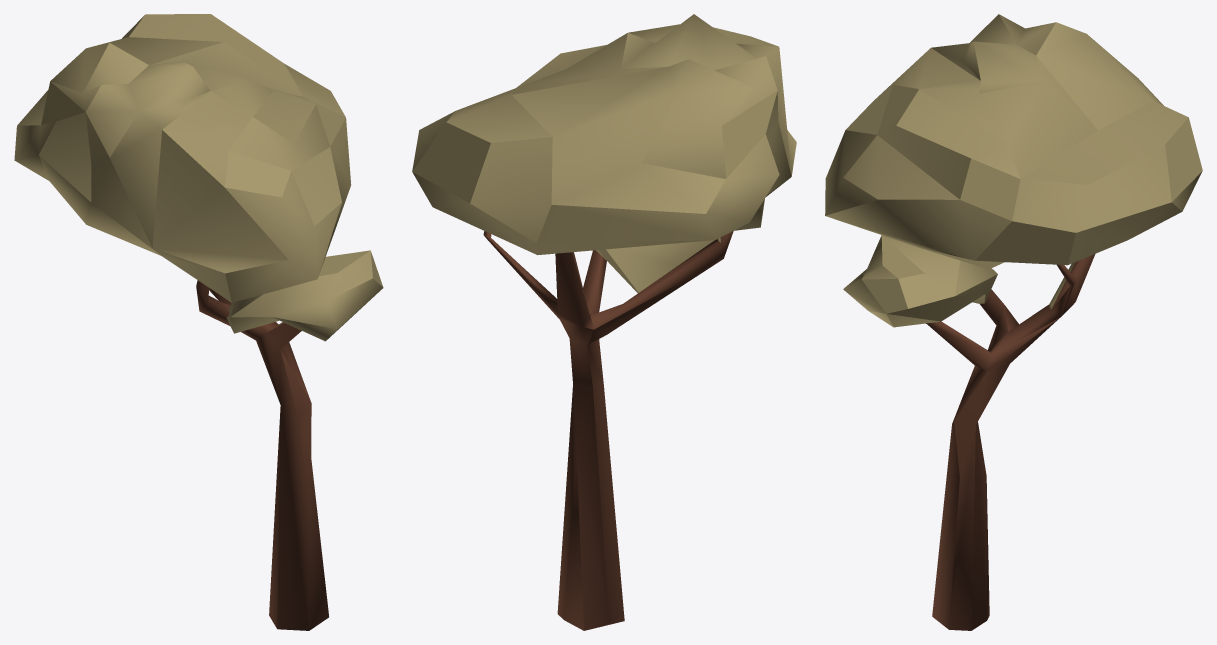
Rendered from BIRCH_TREE_GREEN_v2.fbx.
The picture shows the model from 3 angles, left to right: view 1: azimuth 30°, elevation 25°; view 2: azimuth 150°, elevation 25°; view 3: azimuth 270°, elevation 25°; orthographic projection. The views are drawn at different scales.
Visible parts, largest first — view 1: CommonTree_Autumn_4_Cube.098; view 2: CommonTree_Autumn_4_Cube.098; view 3: CommonTree_Autumn_4_Cube.098.
Part boxes in pixels (bbox=[...]): CommonTree_Autumn_4_Cube.098: bbox=[14, 14, 383, 630]; CommonTree_Autumn_4_Cube.098: bbox=[412, 14, 796, 630]; CommonTree_Autumn_4_Cube.098: bbox=[825, 14, 1202, 630].
Bounding box in the file's own units: 157 × 279 × 178.
